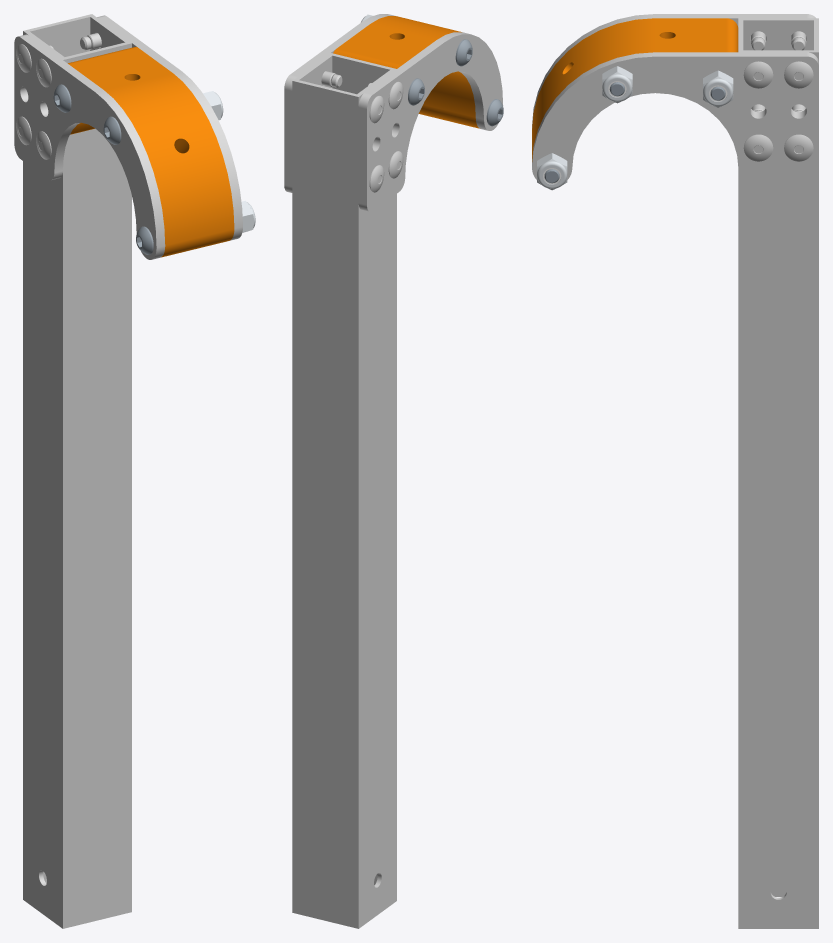
3 views of the same model, side by side, from view 1: azimuth 30°, elevation 25°; view 2: azimuth 150°, elevation 25°; view 3: azimuth 270°, elevation 25° (orthographic). The views are drawn at different scales.
Parts seen in each view (by area): view 1: Tube 1"x1"x12", 3DP Hook Spacer, Hook (×2); view 2: Tube 1"x1"x12", Hook (×2), 3DP Hook Spacer; view 3: Tube 1"x1"x12", Hook (×2), 3DP Hook Spacer, Blind Rivet (×4), #10-32 Nylon-Insert Locknut (×3).
Part boxes in pixels (x1,y1,x2,y2): Tube 1"x1"x12": [23, 14, 131, 928]; 3DP Hook Spacer: [68, 47, 234, 257]; Hook (×2): [14, 15, 242, 259]; Tube 1"x1"x12": [292, 53, 396, 928]; Hook (×2): [284, 14, 503, 211]; 3DP Hook Spacer: [333, 16, 479, 128]; Tube 1"x1"x12": [738, 18, 818, 928]; Hook (×2): [532, 14, 818, 179]; 3DP Hook Spacer: [532, 18, 738, 161]; Blind Rivet (×4): [743, 61, 813, 161]; #10-32 Nylon-Insert Locknut (×3): [537, 66, 733, 190].
Bounding box in the file's own units: 0.0407 × 0.3048 × 0.0904.
